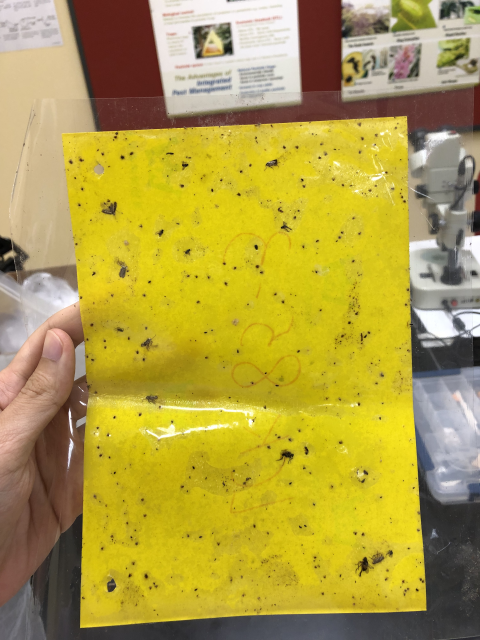DBM: (100, 201, 120, 218), (263, 157, 282, 173)
